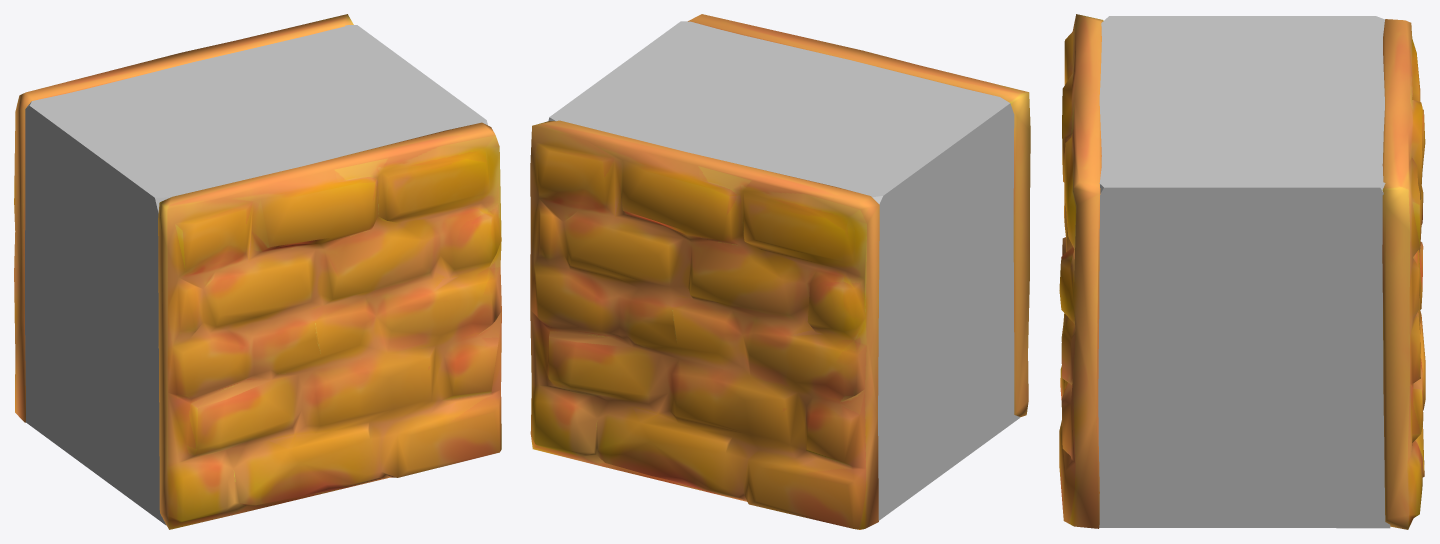
File: wall.fbx
3 views of the same model, side by side, from view 1: azimuth 30°, elevation 25°; view 2: azimuth 150°, elevation 25°; view 3: azimuth 270°, elevation 25° (orthographic). The views are drawn at different scales.
Visible parts, largest first — view 1: wall_low2; view 2: wall_low2; view 3: wall_low2.
Boxes of the visible parts, bbox=[...] form: wall_low2: bbox=[14, 14, 501, 529]; wall_low2: bbox=[530, 14, 1030, 529]; wall_low2: bbox=[1059, 14, 1425, 529].
Size of the model in its own units: 262 by 239 by 231.
